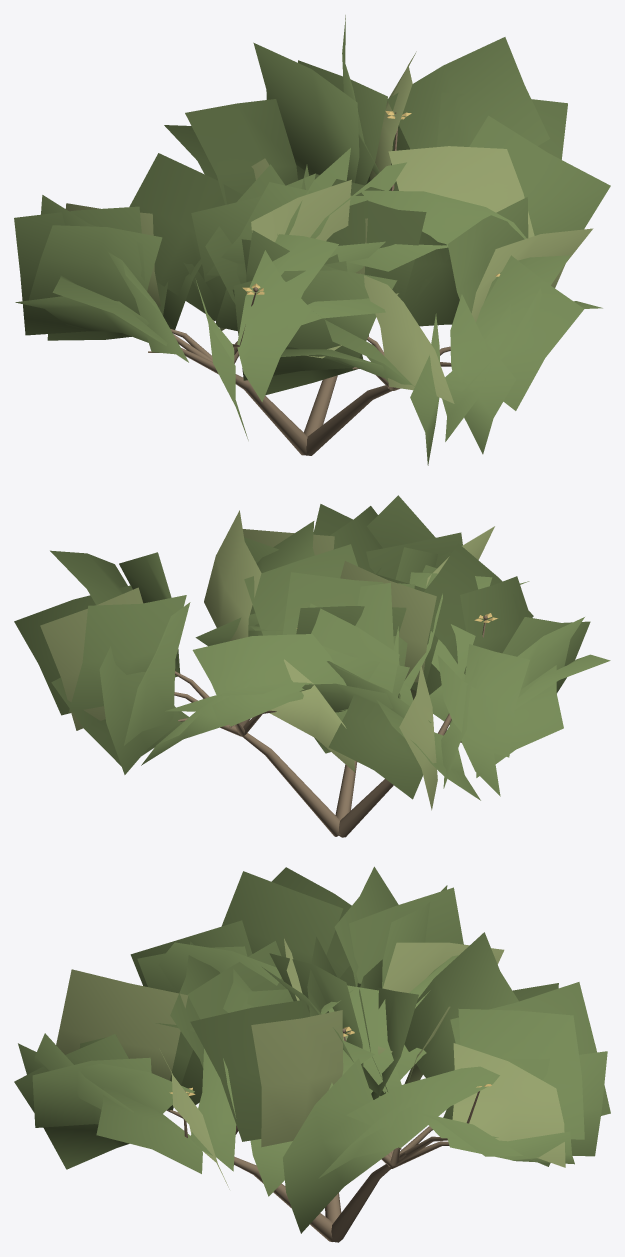
File: garden-shrub.glb
3 renders of one model, top to bottom at view 1: azimuth 30°, elevation 25°; view 2: azimuth 150°, elevation 25°; view 3: azimuth 270°, elevation 25°, orthographic. The views are drawn at different scales.
Visible parts, largest first — view 1: foliage, foliage-light, wood; view 2: foliage, foliage-light, wood; view 3: foliage, foliage-light, wood.
Boxes of the visible parts, box(x1,y1,x2,y2) form: foliage: box(14, 15, 610, 465); foliage-light: box(65, 51, 593, 403); wood: box(148, 112, 451, 455); foliage: box(14, 495, 610, 800); foliage-light: box(40, 510, 494, 810); wood: box(174, 615, 487, 837); foliage: box(14, 866, 610, 1233); foliage-light: box(56, 938, 565, 1189); wood: box(166, 1028, 479, 1242).
Bounding box in the file's own units: 0.9457 × 0.4924 × 0.8828.
